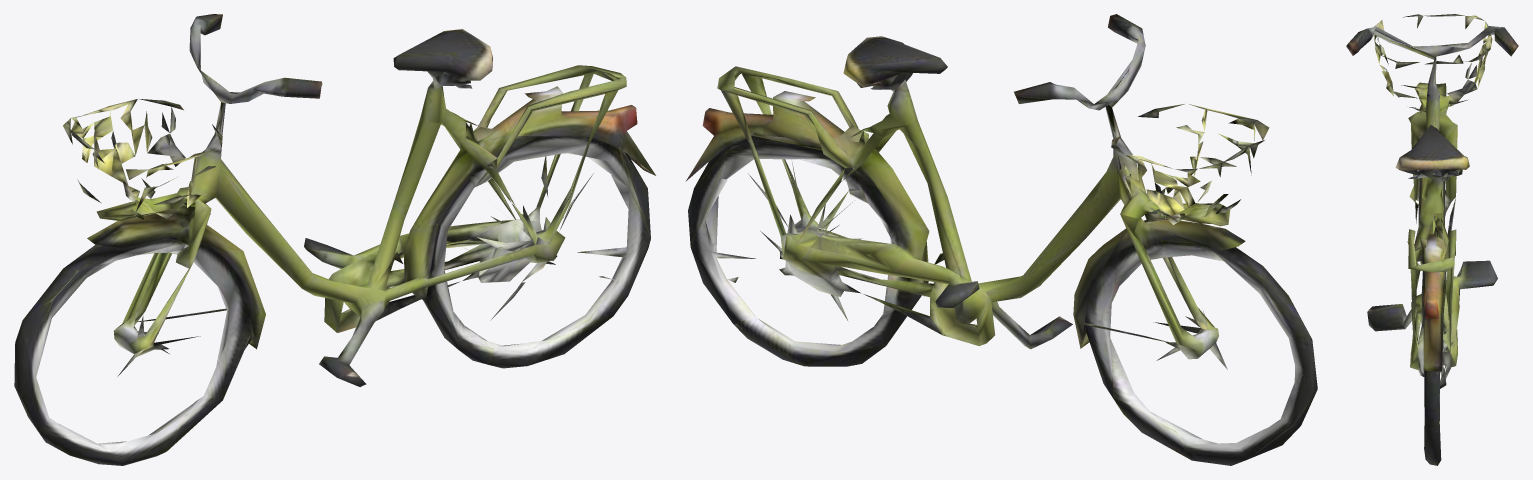
Rendered from vehicle-bicycle.glb.
3 views of the same model, side by side, from view 1: azimuth 30°, elevation 25°; view 2: azimuth 150°, elevation 25°; view 3: azimuth 270°, elevation 25° (orthographic). The views are drawn at different scales.
Bounding box in the file's own units: 2 × 1.17 × 0.5829.
1 material, 1 textured.
